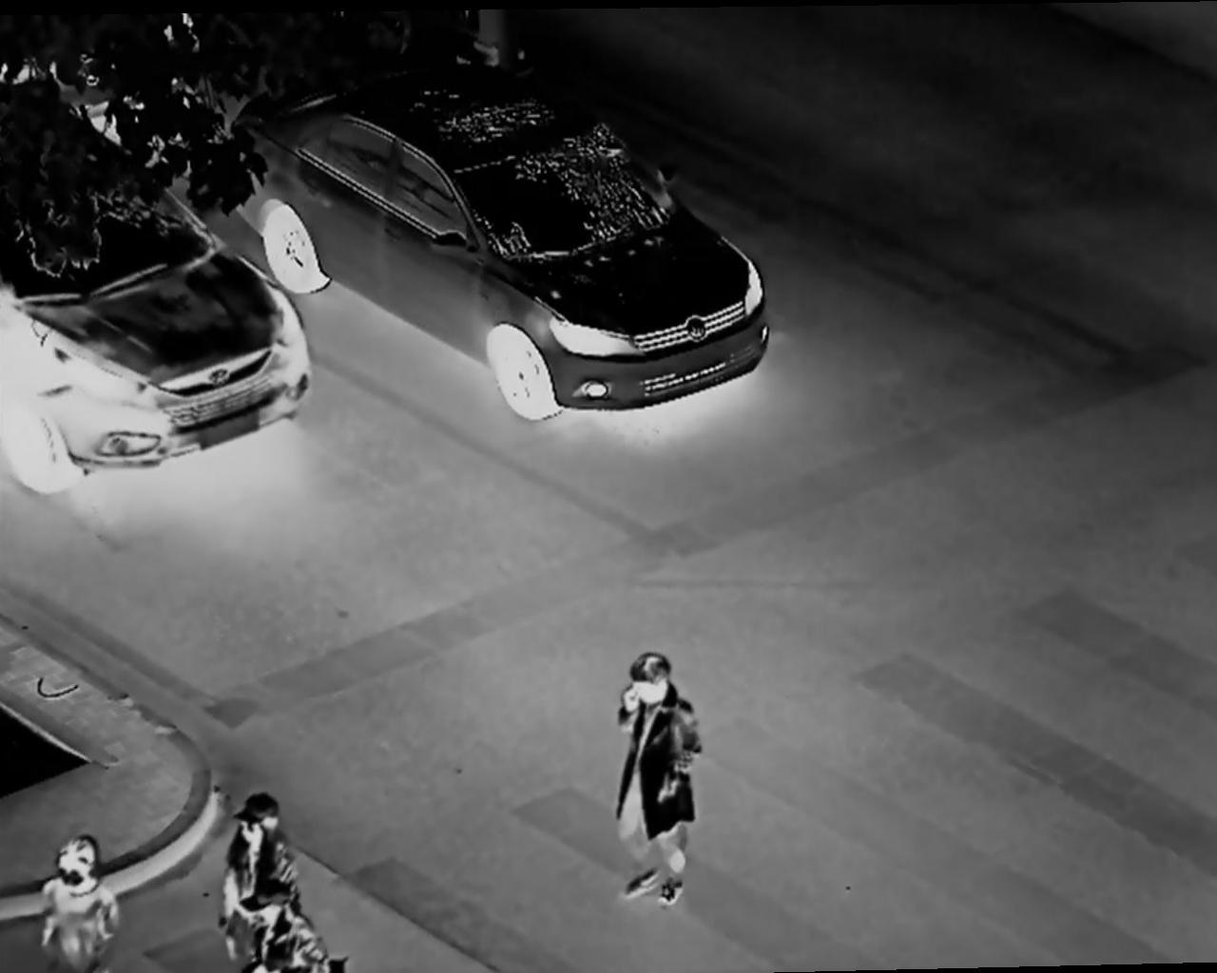person: (609, 648, 716, 908), (36, 817, 127, 973), (230, 779, 297, 924), (242, 876, 331, 973)
